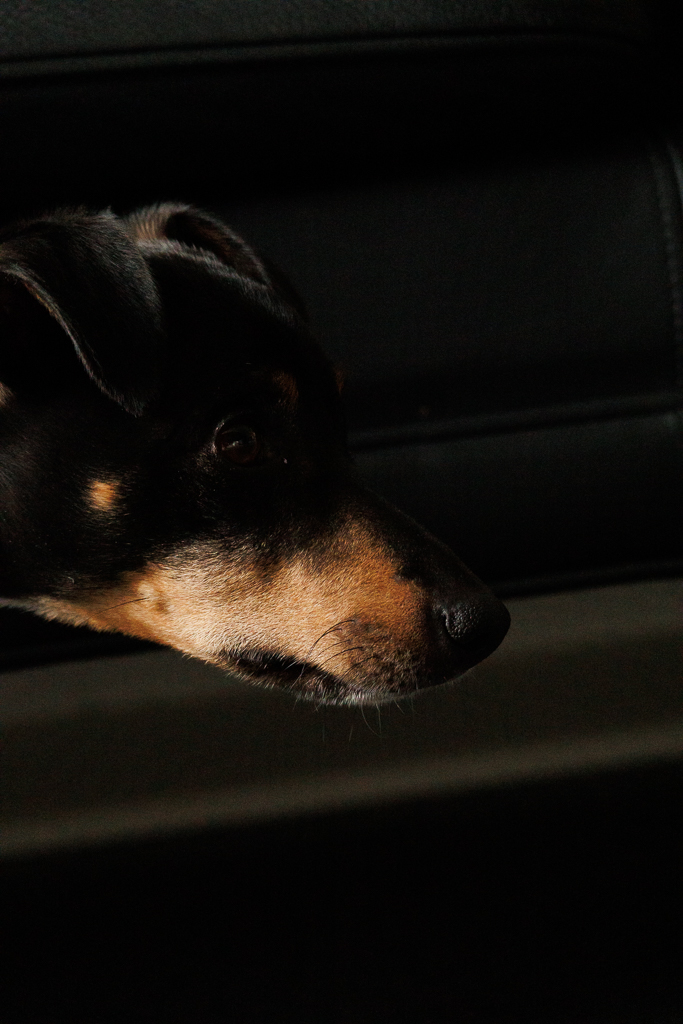Dog: (0, 163, 537, 730)
